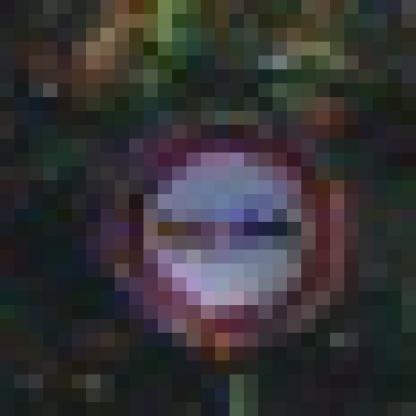No Overtaking: (87, 84, 345, 334)
